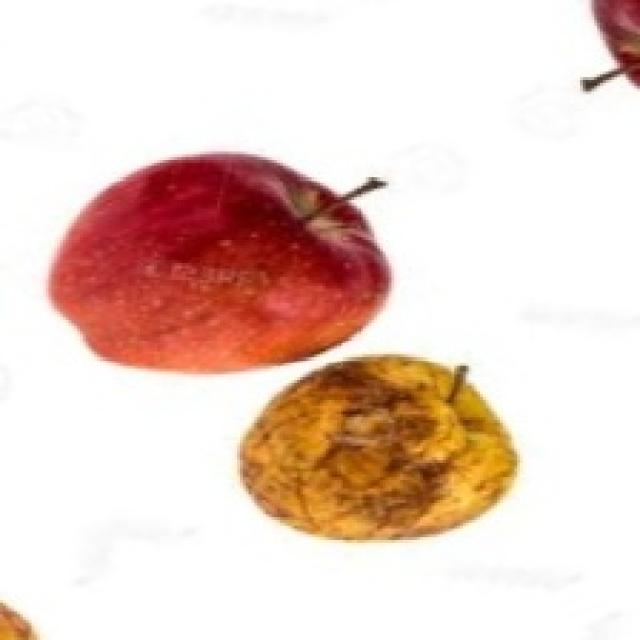rotten_apple: (239, 358, 515, 526)
